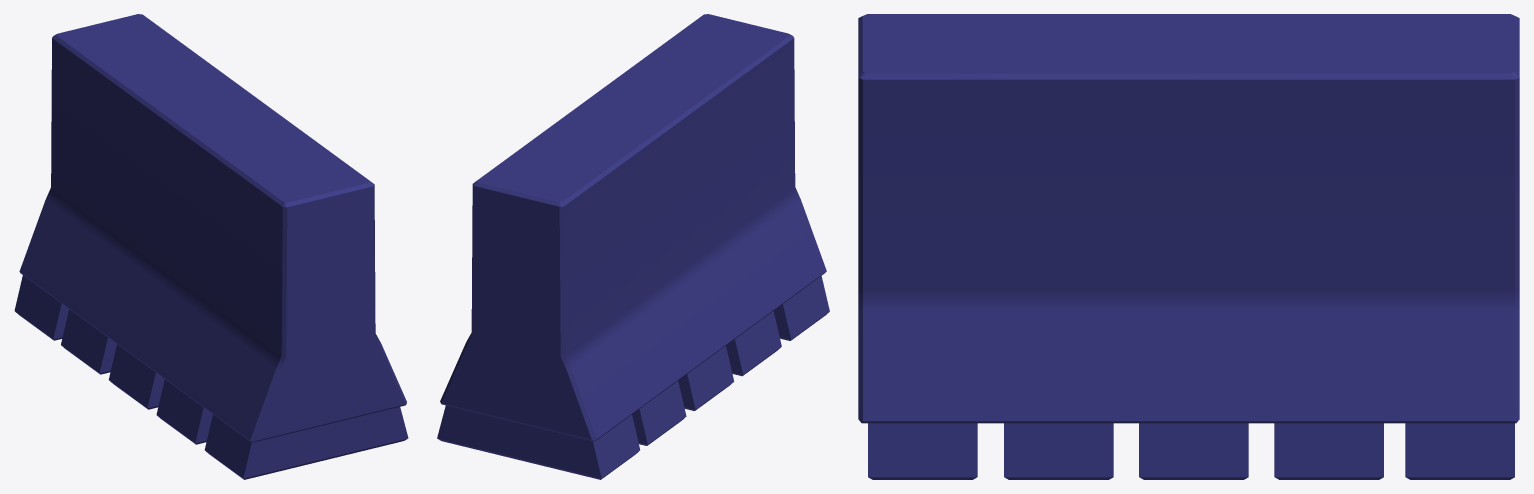
The model's file is Barricada.fbx.
The picture shows the model from 3 angles, left to right: view 1: azimuth 30°, elevation 25°; view 2: azimuth 150°, elevation 25°; view 3: azimuth 270°, elevation 25°; orthographic projection. The views are drawn at different scales.
Parts seen in each view (by area): view 1: Barrera; view 2: Barrera; view 3: Barrera.
Part boxes in pixels (<box>): Barrera: <box>14,14,408,479</box>; Barrera: <box>437,14,829,479</box>; Barrera: <box>858,14,1519,479</box>.
Bounding box in the file's own units: 1.85 × 2.89 × 4.55.
